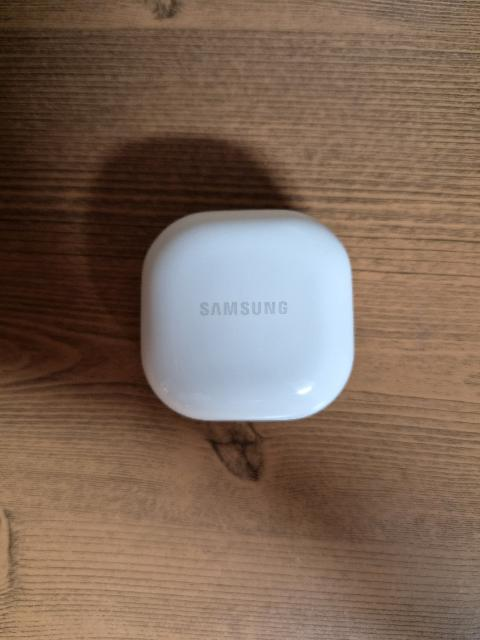earphone_case: (139, 209, 354, 422)
